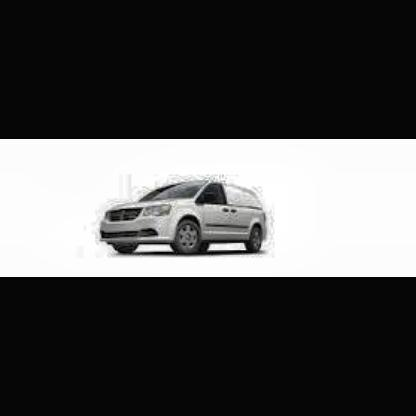Ram C-V Cargo Van Minivan 2012: (101, 179, 270, 259)
